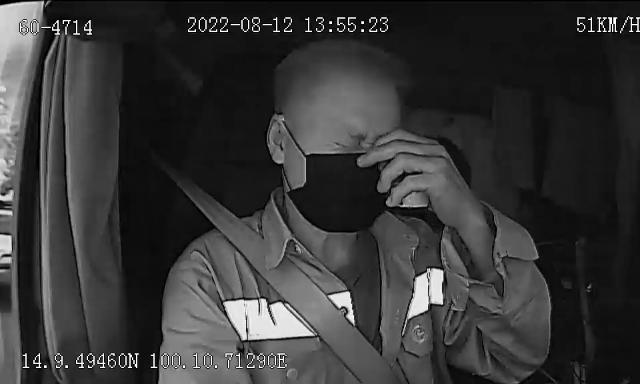Seatbelt: (183, 185, 405, 384)
